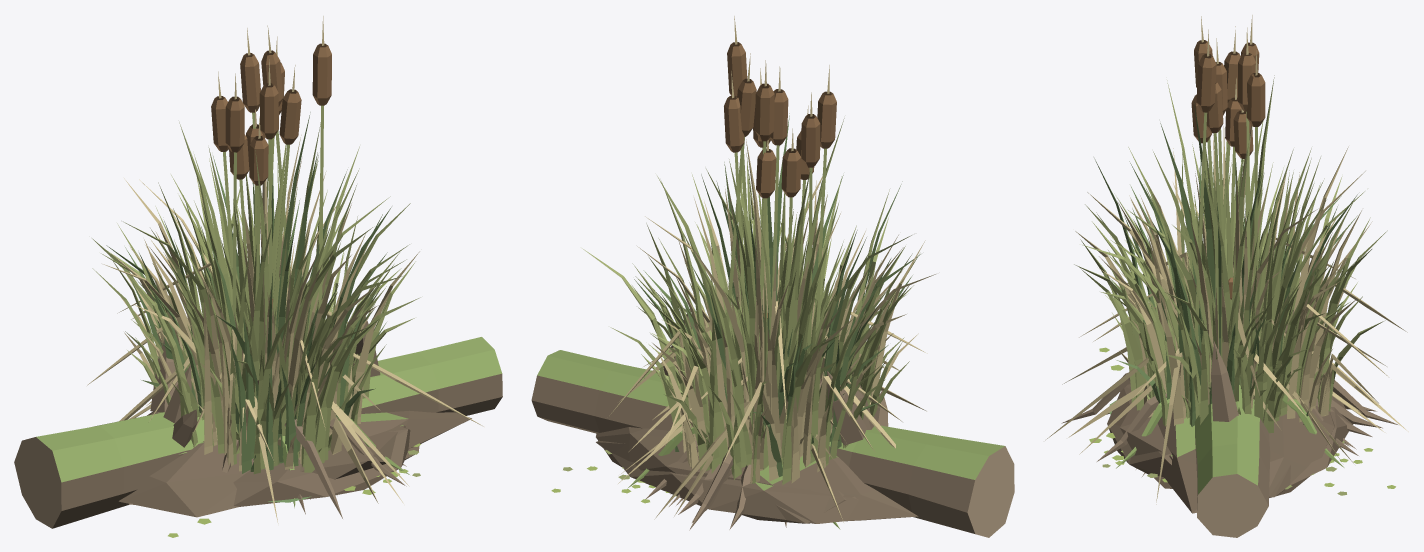
Rendered from marsh-kit.hq.glb.
3 renders of one model, left to right at view 1: azimuth 30°, elevation 25°; view 2: azimuth 150°, elevation 25°; view 3: azimuth 270°, elevation 25°, orthographic. The views are drawn at different scales.
Visible parts, largest first — view 1: log-3, reeds-4, reeds-6, reeds-1, reeds-2, reeds-5, bank-3, reeds-3, bank-4, bank-1, log-4, roots-4 (+1 smaller); view 2: log-3, reeds-4, reeds-2, reeds-6, reeds-5, reeds-1, reeds-3, bank-3, bank-1, roots-4, bank-4, roots-2; view 3: reeds-4, reeds-2, reeds-6, reeds-1, reeds-5, log-3, reeds-3, bank-3, bank-1, roots-4, bank-4, log-1 (+1 smaller).
Part boxes in pixels (x1,y1,x2,y2): log-3: [14, 337, 502, 528]; reeds-4: [92, 16, 483, 499]; reeds-6: [92, 36, 409, 503]; reeds-1: [110, 65, 420, 523]; reeds-2: [87, 135, 386, 466]; reeds-5: [111, 144, 419, 514]; bank-3: [118, 354, 471, 517]; reeds-3: [131, 109, 406, 435]; bank-4: [128, 426, 410, 506]; bank-1: [147, 391, 419, 479]; log-4: [163, 364, 197, 447]; roots-4: [284, 418, 409, 518]; log-3: [531, 350, 1014, 537]; reeds-4: [582, 16, 927, 522]; reeds-2: [635, 113, 912, 506]; reeds-6: [609, 65, 935, 527]; reeds-5: [618, 159, 912, 483]; reeds-1: [643, 68, 926, 463]; reeds-3: [637, 128, 913, 519]; bank-3: [596, 427, 918, 521]; bank-1: [612, 453, 858, 523]; roots-4: [627, 424, 840, 530]; bank-4: [596, 440, 846, 523]; roots-2: [645, 435, 751, 529]; reeds-4: [1079, 15, 1407, 504]; reeds-2: [1075, 123, 1386, 449]; reeds-6: [1068, 16, 1388, 454]; reeds-1: [1062, 26, 1357, 418]; reeds-5: [1045, 143, 1378, 469]; log-3: [1194, 385, 1270, 537]; reeds-3: [1099, 78, 1408, 431]; bank-3: [1157, 399, 1334, 513]; bank-1: [1120, 391, 1353, 488]; roots-4: [1061, 373, 1397, 468]; bank-4: [1107, 380, 1293, 497]; log-1: [1211, 341, 1238, 421].
Bounding box in the file's own units: 1.3 × 1.26 × 0.9544.
